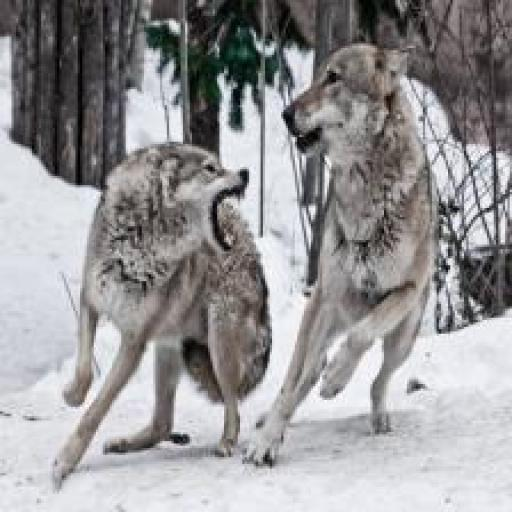wolf: (64, 135, 285, 511), (274, 16, 448, 480)
